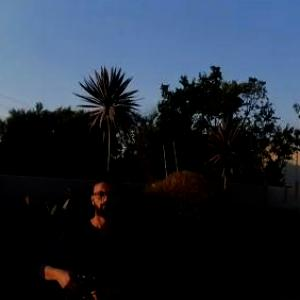follow: (30, 160, 144, 299)
